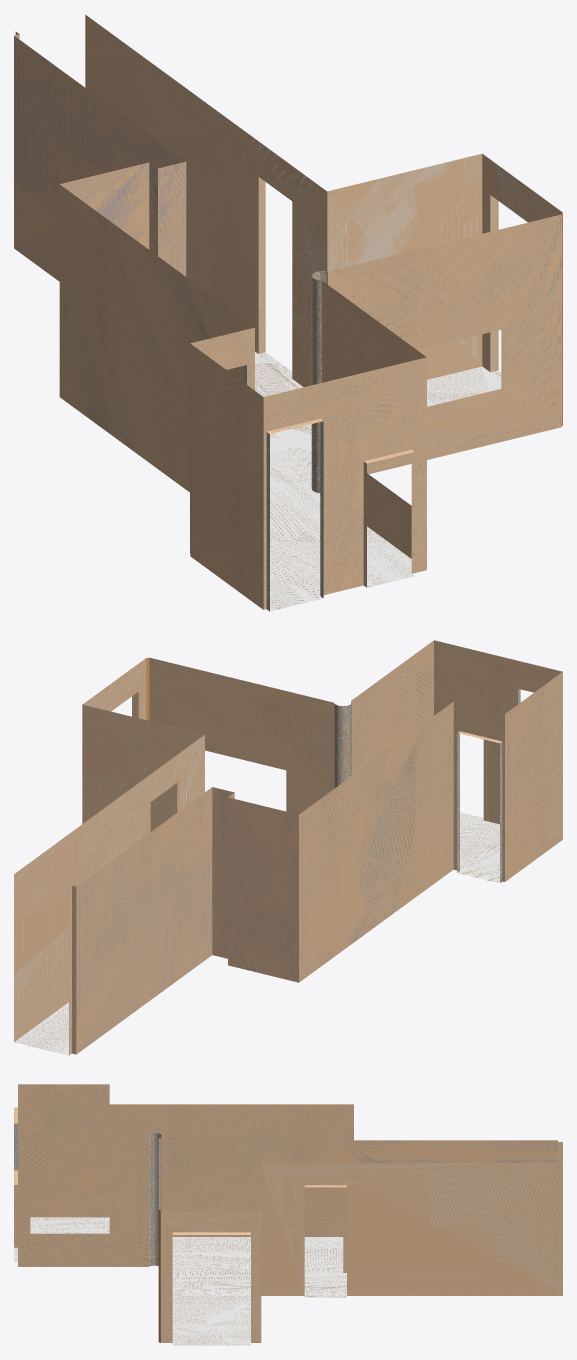
Rendered from COM037.obj.
3 renders of one model, top to bottom at view 1: azimuth 30°, elevation 25°; view 2: azimuth 150°, elevation 25°; view 3: azimuth 270°, elevation 25°, orthographic. The views are drawn at different scales.
Parts seen in each view (by area): view 1: Mesh1 COM037 Model; view 2: Mesh1 COM037 Model; view 3: Mesh1 COM037 Model.
Part boxes in pixels (left/top/right/bottom): Mesh1 COM037 Model: left=14, top=14, right=562, bottom=611; Mesh1 COM037 Model: left=14, top=640, right=562, bottom=1055; Mesh1 COM037 Model: left=14, top=1084, right=562, bottom=1345.
Size of the model in its own units: 7.47 by 3.6 by 13.49.
Materials: 7 (3 with a texture image).
